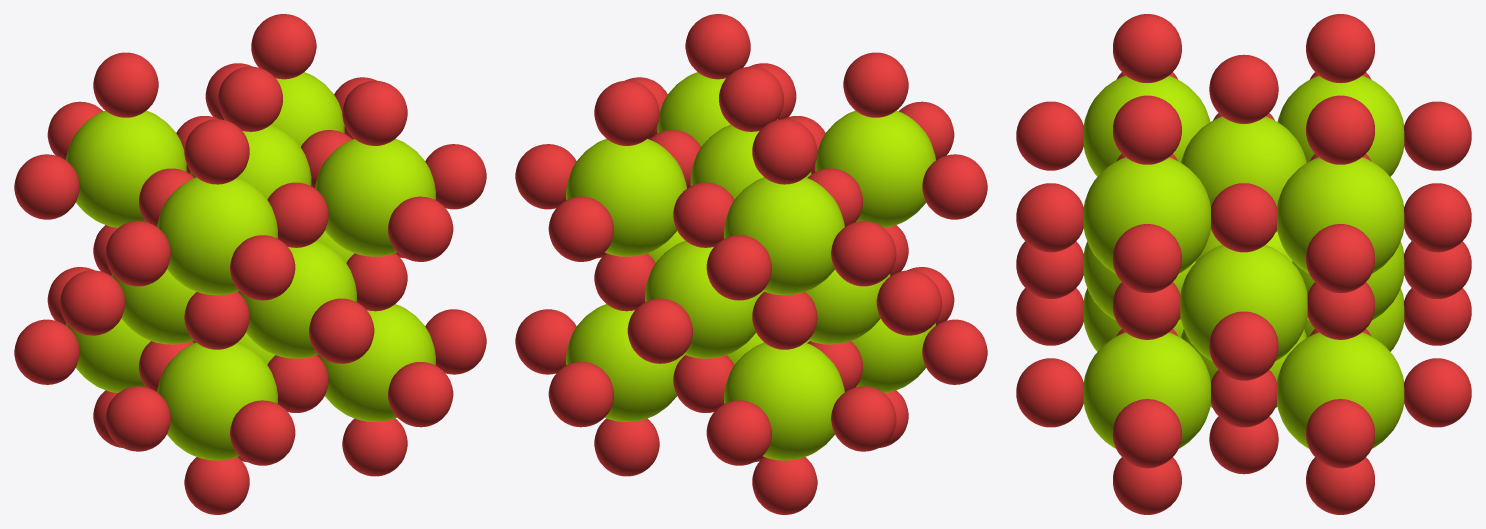
File: POSCAR.fbx
The picture shows the model from 3 angles, left to right: view 1: azimuth 30°, elevation 25°; view 2: azimuth 150°, elevation 25°; view 3: azimuth 270°, elevation 25°; orthographic projection. The views are drawn at different scales.
Visible parts, largest first — view 1: Magnesium|Ball (NURBS)_Magnesium|Dupli|1.0.0.0.0.0.0.0.0, Magnesium|Ball (NURBS)_Magnesium|Dupli|0.0.0.0.0.0.0.0.0, Magnesium|Ball (NURBS)_Magnesium|Dupli|5.0.0.0.0.0.0.0.0, Magnesium|Ball (NURBS)_Magnesium|Dupli|3.0.0.0.0.0.0.0.0, Magnesium|Ball (NURBS)_Magnesium|Dupli|4.0.0.0.0.0.0.0.0, Magnesium|Ball (NURBS)_Magnesium|Dupli|10.0.0.0.0.0.0.0.0, Magnesium|Ball (NURBS)_Magnesium|Dupli|12.0.0.0.0.0.0.0.0, Magnesium|Ball (NURBS)_Magnesium|Dupli|2.0.0.0.0.0.0.0.0, Oxygen|Ball (NURBS)_Oxygen|Dupli|22.0.0.0.0.0.0.0.0, Oxygen|Ball (NURBS)_Oxygen|Dupli|13.0.0.0.0.0.0.0.0, Oxygen|Ball (NURBS)_Oxygen|Dupli|23.0.0.0.0.0.0.0.0, Oxygen|Ball (NURBS)_Oxygen|Dupli|14.0.0.0.0.0.0.0.0 (+29 smaller); view 2: Magnesium|Ball (NURBS)_Magnesium|Dupli|3.0.0.0.0.0.0.0.0, Magnesium|Ball (NURBS)_Magnesium|Dupli|2.0.0.0.0.0.0.0.0, Magnesium|Ball (NURBS)_Magnesium|Dupli|7.0.0.0.0.0.0.0.0, Magnesium|Ball (NURBS)_Magnesium|Dupli|1.0.0.0.0.0.0.0.0, Magnesium|Ball (NURBS)_Magnesium|Dupli|6.0.0.0.0.0.0.0.0, Magnesium|Ball (NURBS)_Magnesium|Dupli|11.0.0.0.0.0.0.0.0, Magnesium|Ball (NURBS)_Magnesium|Dupli|12.0.0.0.0.0.0.0.0, Magnesium|Ball (NURBS)_Magnesium|Dupli|0.0.0.0.0.0.0.0.0, Oxygen|Ball (NURBS)_Oxygen|Dupli|16.0.0.0.0.0.0.0.0, Oxygen|Ball (NURBS)_Oxygen|Dupli|19.0.0.0.0.0.0.0.0, Oxygen|Ball (NURBS)_Oxygen|Dupli|18.0.0.0.0.0.0.0.0, Oxygen|Ball (NURBS)_Oxygen|Dupli|21.0.0.0.0.0.0.0.0 (+29 smaller); view 3: Magnesium|Ball (NURBS)_Magnesium|Dupli|13.0.0.0.0.0.0.0.0, Magnesium|Ball (NURBS)_Magnesium|Dupli|5.0.0.0.0.0.0.0.0, Magnesium|Ball (NURBS)_Magnesium|Dupli|7.0.0.0.0.0.0.0.0, Magnesium|Ball (NURBS)_Magnesium|Dupli|4.0.0.0.0.0.0.0.0, Magnesium|Ball (NURBS)_Magnesium|Dupli|6.0.0.0.0.0.0.0.0, Magnesium|Ball (NURBS)_Magnesium|Dupli|9.0.0.0.0.0.0.0.0, Magnesium|Ball (NURBS)_Magnesium|Dupli|1.0.0.0.0.0.0.0.0, Magnesium|Ball (NURBS)_Magnesium|Dupli|3.0.0.0.0.0.0.0.0, Oxygen|Ball (NURBS)_Oxygen|Dupli|42.0.0.0.0.0.0.0.0, Oxygen|Ball (NURBS)_Oxygen|Dupli|29.0.0.0.0.0.0.0.0, Oxygen|Ball (NURBS)_Oxygen|Dupli|34.0.0.0.0.0.0.0.0, Oxygen|Ball (NURBS)_Oxygen|Dupli|27.0.0.0.0.0.0.0.0 (+28 smaller).
Part boxes in pixels (x1,y1,x2,y2): Magnesium|Ball (NURBS)_Magnesium|Dupli|1.0.0.0.0.0.0.0.0: (157,177,277,295); Magnesium|Ball (NURBS)_Magnesium|Dupli|0.0.0.0.0.0.0.0.0: (157,342,277,460); Magnesium|Ball (NURBS)_Magnesium|Dupli|5.0.0.0.0.0.0.0.0: (315,139,435,256); Magnesium|Ball (NURBS)_Magnesium|Dupli|3.0.0.0.0.0.0.0.0: (66,110,186,227); Magnesium|Ball (NURBS)_Magnesium|Dupli|4.0.0.0.0.0.0.0.0: (317,304,435,421); Magnesium|Ball (NURBS)_Magnesium|Dupli|10.0.0.0.0.0.0.0.0: (238,240,356,358); Magnesium|Ball (NURBS)_Magnesium|Dupli|12.0.0.0.0.0.0.0.0: (111,269,196,344); Magnesium|Ball (NURBS)_Magnesium|Dupli|2.0.0.0.0.0.0.0.0: (66,318,150,393); Oxygen|Ball (NURBS)_Oxygen|Dupli|22.0.0.0.0.0.0.0.0: (14,154,79,219); Oxygen|Ball (NURBS)_Oxygen|Dupli|13.0.0.0.0.0.0.0.0: (105,386,170,451); Oxygen|Ball (NURBS)_Oxygen|Dupli|23.0.0.0.0.0.0.0.0: (93,52,158,117); Oxygen|Ball (NURBS)_Oxygen|Dupli|14.0.0.0.0.0.0.0.0: (230,400,295,465); Magnesium|Ball (NURBS)_Magnesium|Dupli|3.0.0.0.0.0.0.0.0: (724,177,844,295); Magnesium|Ball (NURBS)_Magnesium|Dupli|2.0.0.0.0.0.0.0.0: (724,342,844,460); Magnesium|Ball (NURBS)_Magnesium|Dupli|7.0.0.0.0.0.0.0.0: (566,139,686,256); Magnesium|Ball (NURBS)_Magnesium|Dupli|1.0.0.0.0.0.0.0.0: (815,110,935,227); Magnesium|Ball (NURBS)_Magnesium|Dupli|6.0.0.0.0.0.0.0.0: (566,304,684,421); Magnesium|Ball (NURBS)_Magnesium|Dupli|11.0.0.0.0.0.0.0.0: (645,240,763,358); Magnesium|Ball (NURBS)_Magnesium|Dupli|12.0.0.0.0.0.0.0.0: (805,269,890,344); Magnesium|Ball (NURBS)_Magnesium|Dupli|0.0.0.0.0.0.0.0.0: (851,318,935,393); Oxygen|Ball (NURBS)_Oxygen|Dupli|16.0.0.0.0.0.0.0.0: (922,154,987,219); Oxygen|Ball (NURBS)_Oxygen|Dupli|19.0.0.0.0.0.0.0.0: (831,386,896,451); Oxygen|Ball (NURBS)_Oxygen|Dupli|18.0.0.0.0.0.0.0.0: (843,52,908,117); Oxygen|Ball (NURBS)_Oxygen|Dupli|21.0.0.0.0.0.0.0.0: (706,400,771,465); Magnesium|Ball (NURBS)_Magnesium|Dupli|13.0.0.0.0.0.0.0.0: (1180,245,1307,361); Magnesium|Ball (NURBS)_Magnesium|Dupli|5.0.0.0.0.0.0.0.0: (1083,157,1210,273); Magnesium|Ball (NURBS)_Magnesium|Dupli|7.0.0.0.0.0.0.0.0: (1277,157,1404,273); Magnesium|Ball (NURBS)_Magnesium|Dupli|4.0.0.0.0.0.0.0.0: (1083,332,1210,448); Magnesium|Ball (NURBS)_Magnesium|Dupli|6.0.0.0.0.0.0.0.0: (1277,332,1404,448); Magnesium|Ball (NURBS)_Magnesium|Dupli|9.0.0.0.0.0.0.0.0: (1181,116,1306,232); Magnesium|Ball (NURBS)_Magnesium|Dupli|1.0.0.0.0.0.0.0.0: (1083,75,1210,176); Magnesium|Ball (NURBS)_Magnesium|Dupli|3.0.0.0.0.0.0.0.0: (1277,75,1404,176); Oxygen|Ball (NURBS)_Oxygen|Dupli|42.0.0.0.0.0.0.0.0: (1209,311,1278,380); Oxygen|Ball (NURBS)_Oxygen|Dupli|29.0.0.0.0.0.0.0.0: (1113,95,1181,164); Oxygen|Ball (NURBS)_Oxygen|Dupli|34.0.0.0.0.0.0.0.0: (1306,95,1374,164); Oxygen|Ball (NURBS)_Oxygen|Dupli|27.0.0.0.0.0.0.0.0: (1113,399,1181,468).
Size of the model in its own units: 960 by 961 by 960.
